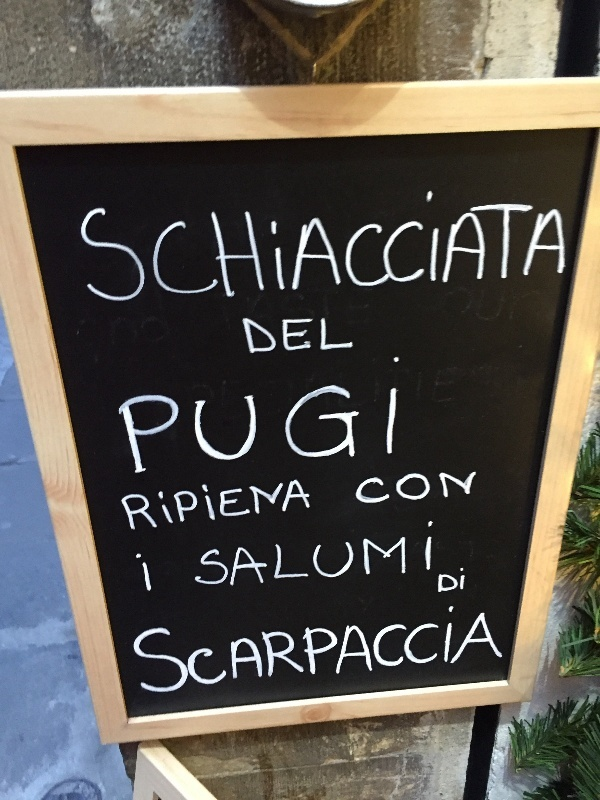text: (81, 174, 96, 316), (97, 174, 112, 316), (113, 174, 128, 316), (129, 174, 144, 316), (145, 174, 160, 316), (161, 174, 176, 316), (177, 174, 192, 316), (193, 174, 208, 316), (209, 174, 224, 316), (225, 174, 240, 316), (241, 174, 256, 316), (257, 174, 272, 316), (273, 174, 288, 316), (289, 174, 304, 316), (305, 174, 320, 316), (321, 174, 336, 316), (337, 174, 352, 316), (353, 174, 368, 316), (369, 174, 384, 316), (385, 174, 400, 316), (401, 174, 416, 316), (417, 174, 432, 316), (433, 174, 448, 316), (449, 174, 464, 316), (465, 174, 480, 316), (481, 174, 496, 316), (497, 174, 512, 316), (513, 174, 528, 316), (529, 174, 544, 316), (545, 174, 560, 316), (129, 352, 144, 484), (145, 352, 160, 484), (161, 352, 176, 484), (177, 352, 192, 484), (193, 352, 208, 484), (209, 352, 224, 484), (225, 352, 240, 484), (241, 352, 256, 484), (257, 352, 272, 484), (273, 352, 288, 484), (289, 352, 304, 484), (305, 352, 320, 484), (321, 352, 336, 484), (337, 352, 352, 484), (353, 352, 368, 484), (369, 352, 384, 484), (385, 352, 400, 484), (115, 352, 128, 484), (145, 592, 160, 698), (161, 592, 176, 698), (177, 592, 192, 698), (193, 592, 208, 698), (209, 592, 224, 698), (225, 592, 240, 698), (241, 592, 256, 698), (257, 592, 272, 698), (273, 592, 288, 698), (289, 592, 304, 698), (305, 592, 320, 698), (321, 592, 336, 698), (337, 592, 352, 698), (353, 592, 368, 698), (369, 592, 384, 698), (385, 592, 400, 698), (401, 592, 416, 698), (417, 592, 432, 698), (433, 592, 448, 698), (449, 592, 464, 698), (465, 592, 480, 698), (481, 592, 496, 698), (130, 592, 144, 698), (209, 519, 224, 588), (225, 519, 240, 588), (241, 519, 256, 588), (257, 519, 272, 588), (273, 519, 288, 588), (289, 519, 304, 588), (305, 519, 320, 588), (321, 519, 336, 588), (337, 519, 352, 588), (353, 519, 368, 588), (369, 519, 384, 588), (385, 519, 400, 588), (401, 519, 416, 588), (417, 519, 432, 588), (129, 470, 144, 538), (145, 470, 160, 538), (161, 470, 176, 538), (177, 470, 192, 538), (193, 470, 208, 538), (209, 470, 224, 538), (225, 470, 240, 538), (241, 470, 256, 538), (257, 470, 272, 538), (273, 470, 288, 538), (289, 470, 304, 538), (241, 303, 256, 364), (257, 303, 272, 364), (273, 303, 288, 364), (289, 303, 304, 364), (305, 303, 320, 364), (321, 303, 336, 364), (337, 303, 352, 364), (353, 453, 368, 514), (369, 453, 384, 514), (385, 453, 400, 514), (401, 453, 416, 514), (417, 453, 432, 514), (433, 453, 448, 514), (449, 453, 464, 514), (561, 174, 567, 316), (497, 592, 504, 698), (198, 519, 208, 588), (465, 453, 476, 514), (76, 174, 80, 316), (120, 470, 128, 538), (305, 470, 313, 538), (134, 547, 144, 600), (145, 547, 155, 600), (449, 563, 464, 598), (438, 563, 448, 598), (433, 519, 437, 588), (401, 352, 403, 484), (353, 303, 355, 364), (465, 563, 466, 598)
